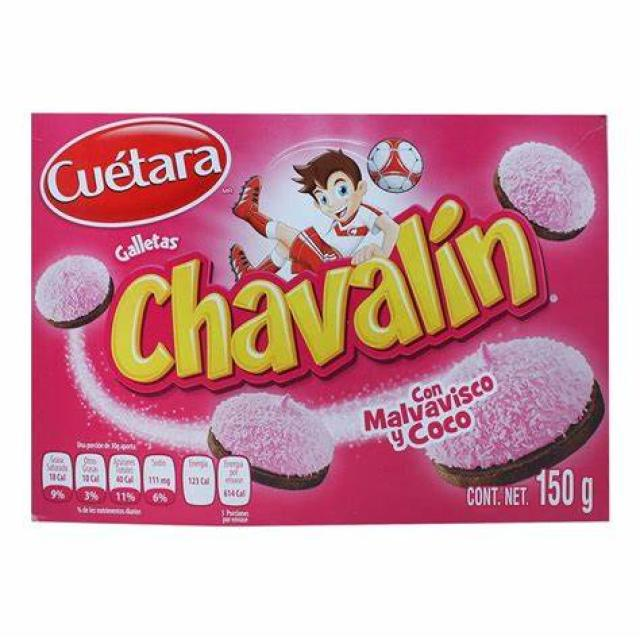Caja: (26, 88, 627, 546)
